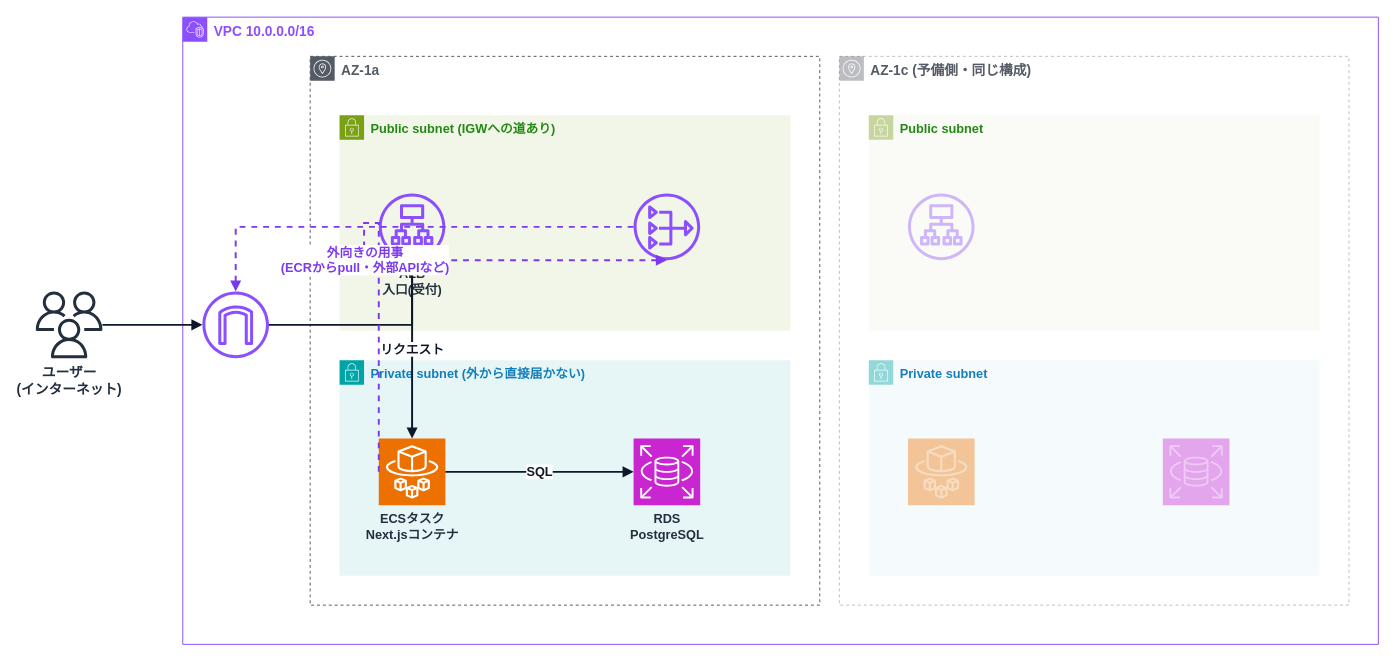
Some shapes in this 1396 by 662 pixel diagram are drawn without their labels. Each missing label, with the centre of its shape:
"ALB" belongs at (940,226).
"ECSタスク" belongs at (941,471).
"Internet Gateway" belongs at (235,324).
"NATゲートウェイ 出口(外向き専用)" belongs at (666,226).
"RDS(スタンバイ)" belongs at (1195,471).
